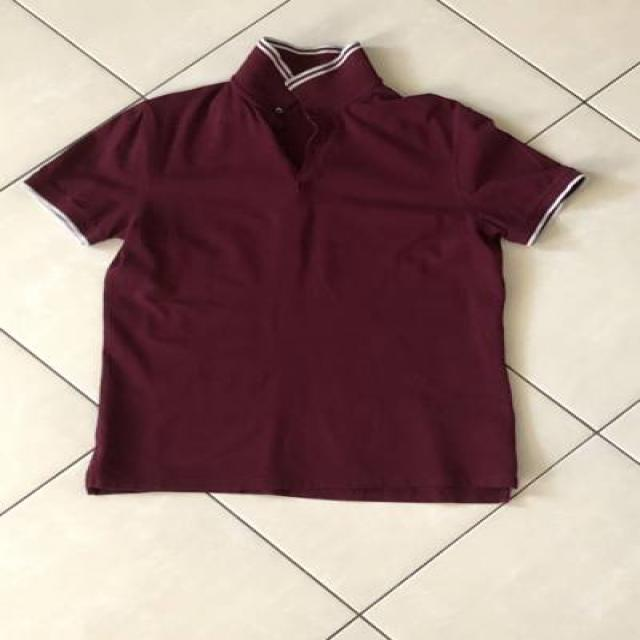shirt: (19, 39, 586, 504)
